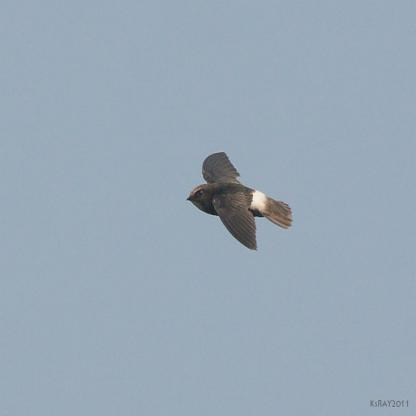Burung: (186, 152, 291, 250)
